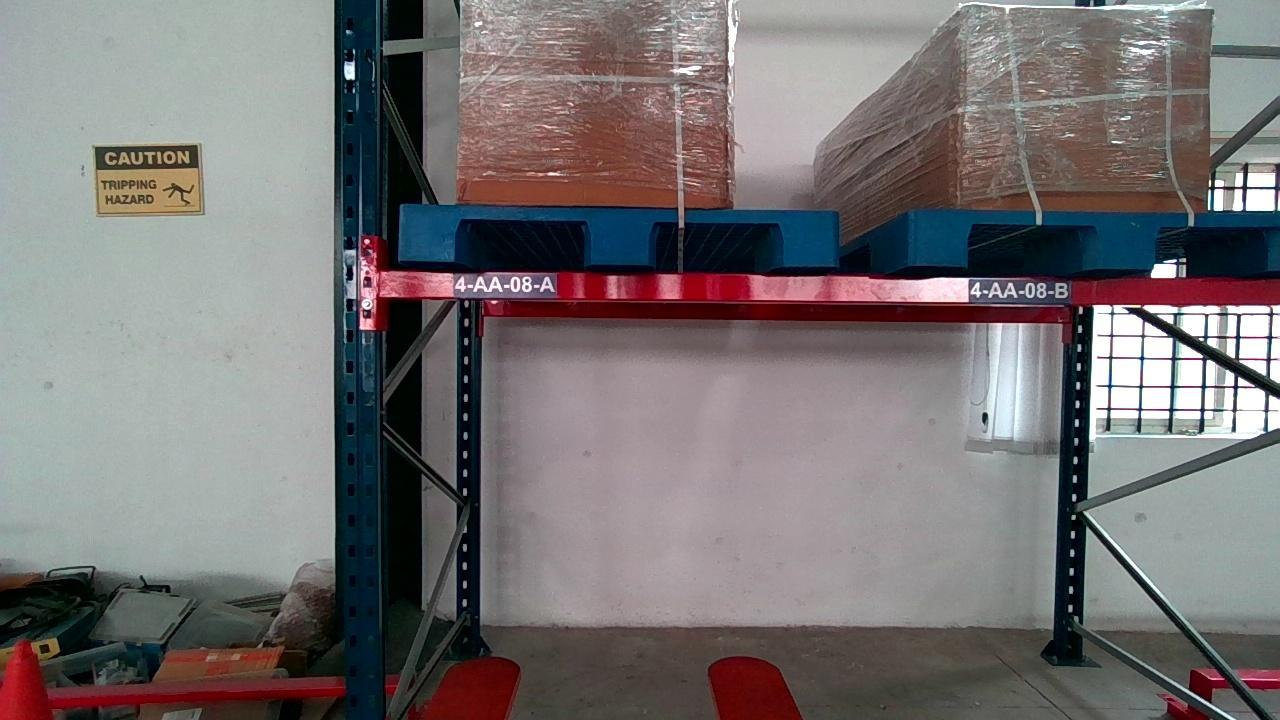h_rack: (381, 273, 1278, 303)
small_pallet: (398, 204, 837, 265), (915, 210, 1279, 268)
